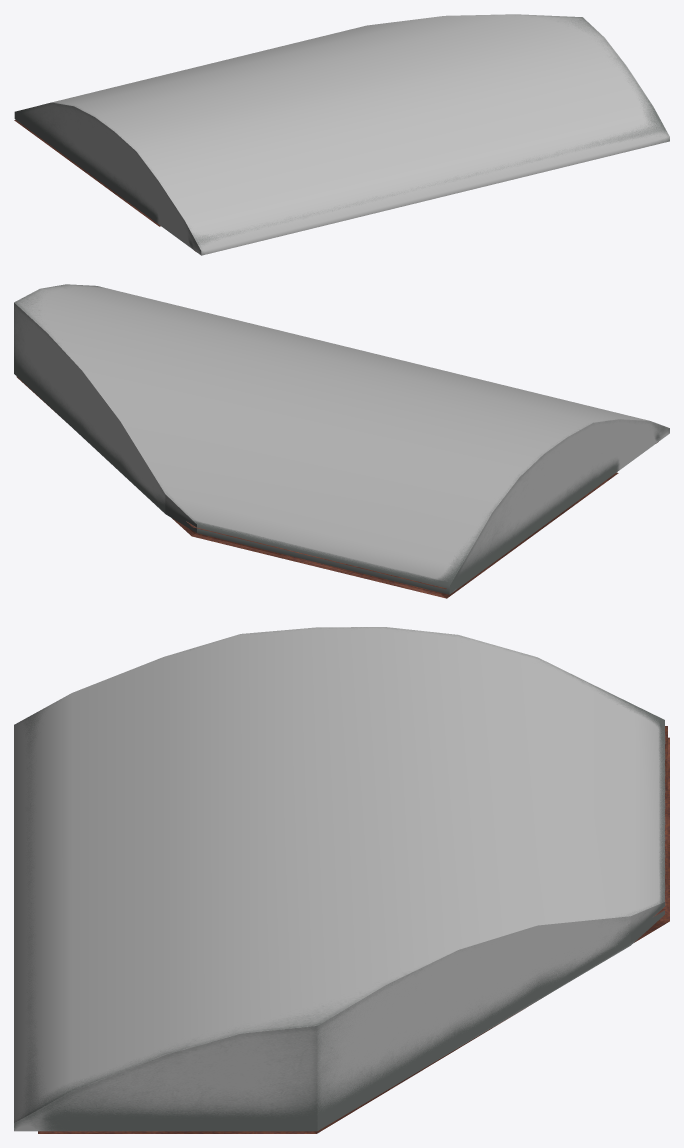
The model's file is SM_Kitchen_Roof.fbx.
The picture shows the model from 3 angles, top to bottom: view 1: azimuth 30°, elevation 25°; view 2: azimuth 150°, elevation 25°; view 3: azimuth 270°, elevation 25°; orthographic projection. The views are drawn at different scales.
Visible parts, largest first — view 1: SM_Kitchen_Roof; view 2: SM_Kitchen_Roof; view 3: SM_Kitchen_Roof.
Boxes of the visible parts, box(x1,y1,x2,y2) form: SM_Kitchen_Roof: box(14, 14, 669, 255); SM_Kitchen_Roof: box(14, 284, 669, 598); SM_Kitchen_Roof: box(14, 627, 669, 1133).
Bounding box in the file's own units: 336 × 233 × 43.14.
Materials: 1 (1 with a texture image).
